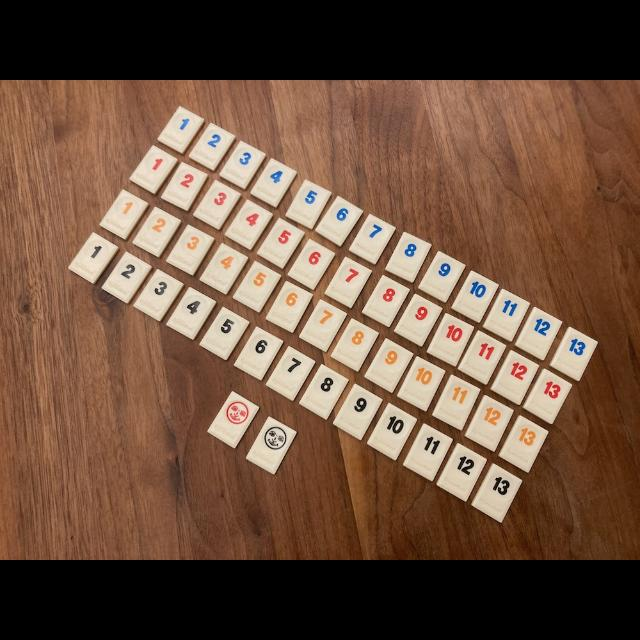black_1: (69, 232, 119, 284)
black_10: (368, 404, 416, 460)
black_11: (404, 424, 452, 481)
black_12: (436, 444, 486, 501)
black_13: (471, 464, 522, 522)
black_2: (102, 251, 151, 304)
black_3: (134, 269, 184, 321)
black_4: (166, 288, 216, 340)
black_5: (200, 308, 249, 360)
black_6: (234, 326, 284, 380)
black_7: (266, 346, 315, 400)
black_8: (299, 364, 349, 419)
black_9: (334, 384, 382, 440)
blue_1: (158, 106, 204, 154)
blue_10: (451, 271, 499, 322)
blue_11: (482, 289, 530, 341)
blue_12: (515, 308, 562, 360)
blue_13: (550, 328, 598, 381)
blue_2: (189, 124, 235, 170)
blue_3: (220, 141, 265, 189)
blue_4: (251, 159, 296, 208)
blue_5: (286, 180, 331, 229)
blue_6: (316, 196, 364, 246)
blue_7: (349, 214, 395, 264)
blue_8: (385, 232, 431, 282)
blue_9: (419, 251, 465, 302)
joker: (208, 391, 259, 448), (246, 416, 296, 474)
orange_1: (101, 190, 149, 240)
orange_10: (398, 356, 445, 411)
orange_11: (432, 375, 480, 430)
orange_12: (465, 395, 514, 451)
orange_13: (499, 416, 549, 472)
orange_2: (134, 208, 181, 258)
orange_3: (166, 225, 214, 275)
orange_4: (201, 244, 248, 294)
orange_5: (232, 261, 281, 312)
orange_6: (266, 281, 312, 332)
orange_7: (300, 300, 346, 351)
orange_8: (331, 319, 379, 371)
orange_9: (365, 339, 412, 392)
red_1: (130, 145, 178, 194)
red_10: (428, 314, 474, 366)
red_11: (458, 330, 506, 384)
red_12: (492, 350, 539, 405)
red_13: (524, 369, 571, 424)
red_2: (161, 162, 208, 211)
red_3: (195, 180, 240, 229)
red_4: (226, 200, 272, 250)
red_5: (258, 219, 305, 269)
red_6: (288, 239, 335, 290)
red_7: (325, 258, 371, 308)
red_8: (362, 275, 409, 326)
red_9: (394, 294, 442, 346)
